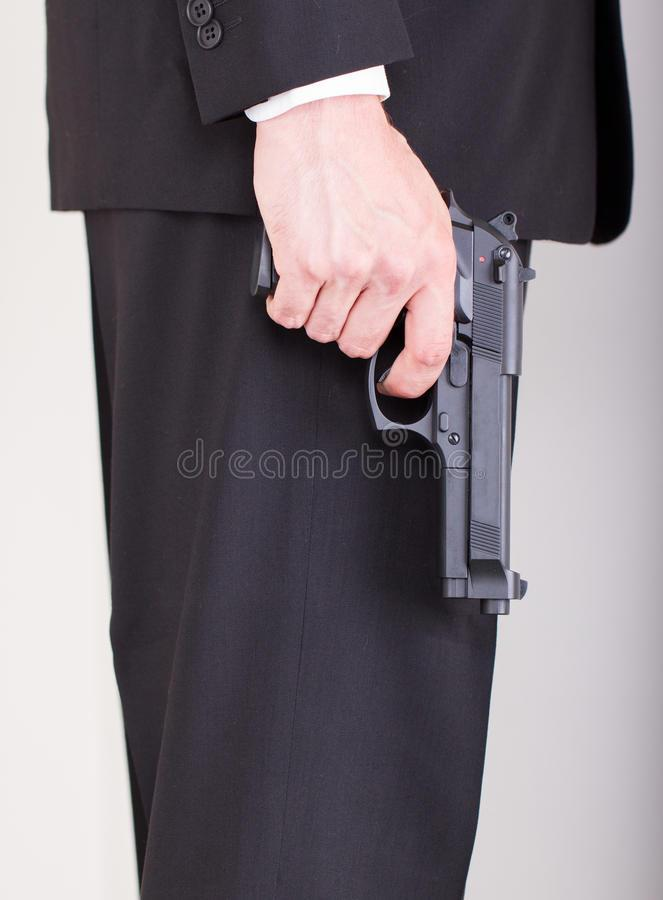weapon: (248, 182, 528, 618)
